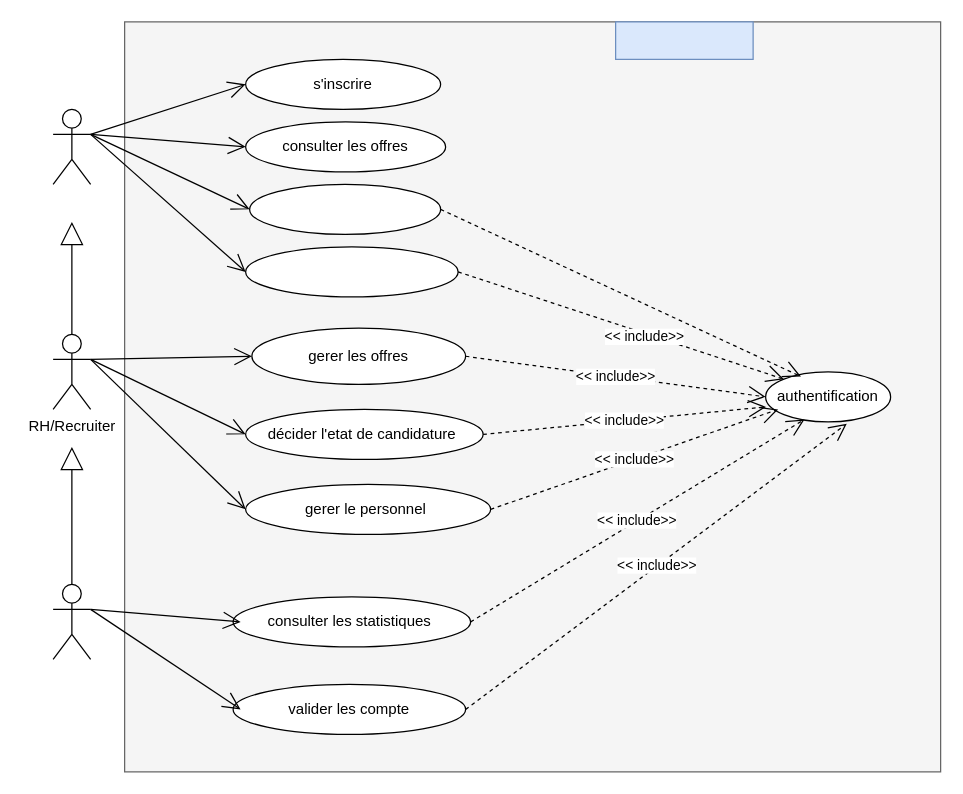
This 963x794 diagram has some shape labels left out. Each missing label, with the centre of its shape:
"admin" belongs at (x=71, y=621).
"gerer profile" belongs at (x=344, y=208).
"JobPortalX App" belongs at (x=683, y=40).
"postuler à un emploi" belongs at (x=351, y=271).
"user/Candidate" belongs at (x=71, y=146).
